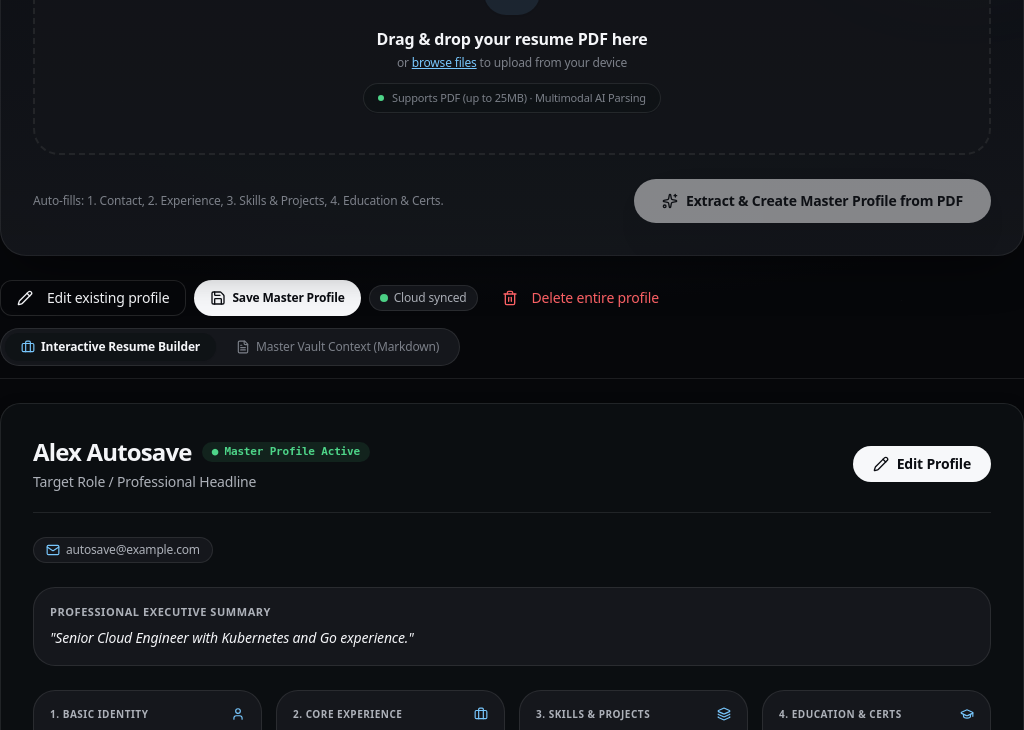
ProfileBuilderView Auto-Save & Synchronization Flow › displays "Cloud synced" on initial load and transitions to "Saving changes..." and back to "Cloud synced" after 1.5s debounce
Later steps or results of the test are not shown.
(page scrolled)
Expected: the message with test id "cloud-sync-indicator" reads "Cloud synced", [394,289,466,306]
Switch to Vault Tab to edit raw markdown
Click the button "Master Vault Context (Markdown)" at (338, 347), box [220,333,455,361]
(page scrolled)
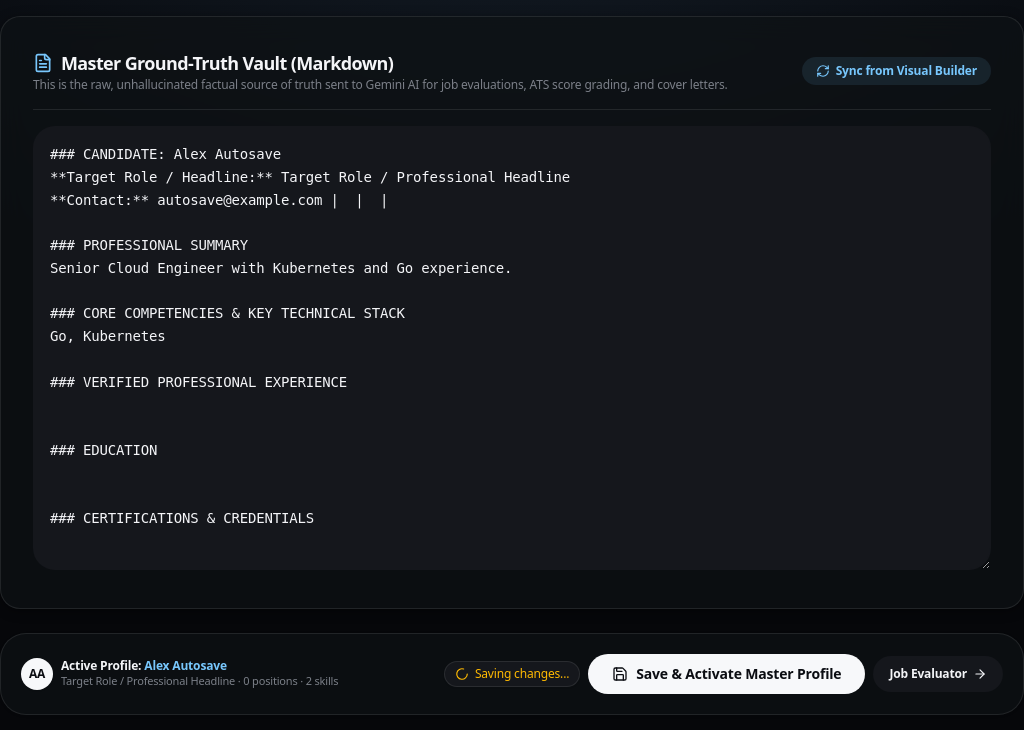
Now the text box with placeholder "Paste or write your full career chronology..." is shown, box [33,126,991,570]
